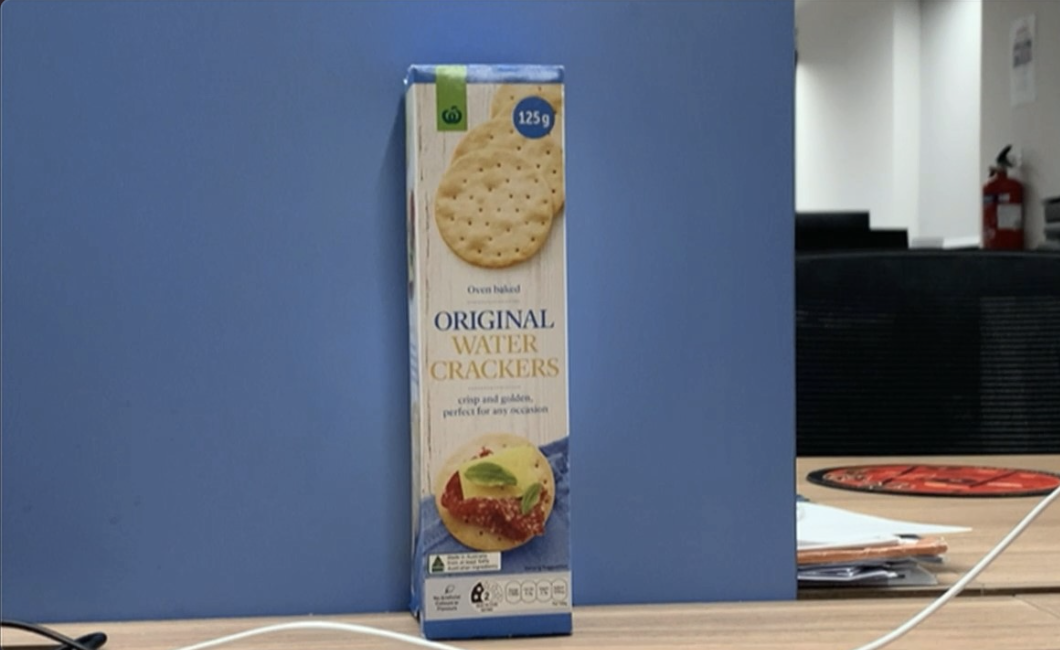crackers_150g: (422, 87, 571, 620)
